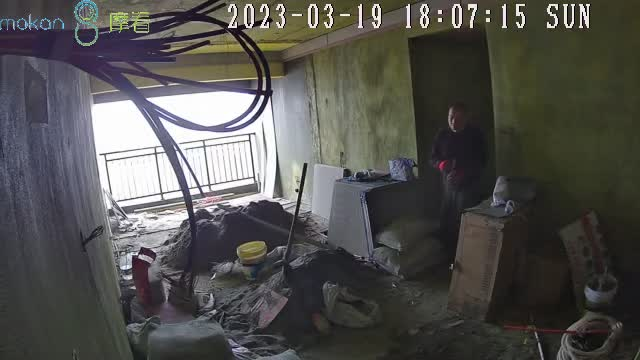people: (429, 102, 485, 212)
window: (93, 91, 260, 207)
